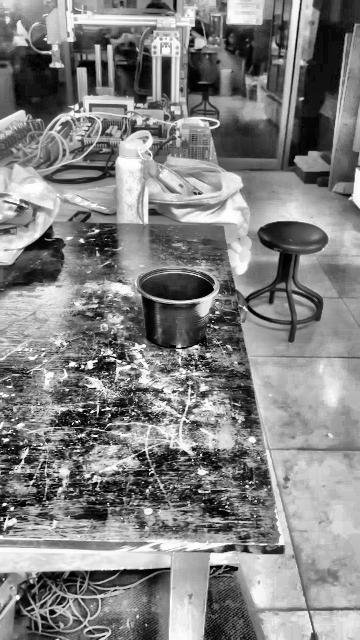pot: (136, 268, 215, 348)
